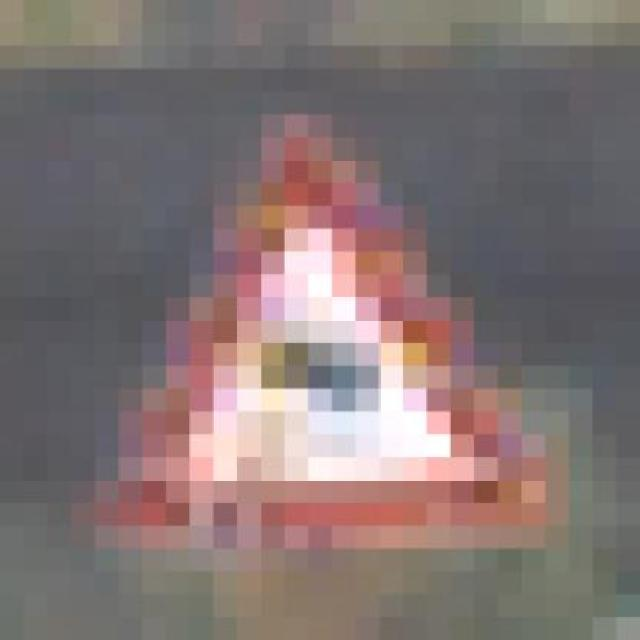Slippery Road Ahead: (72, 91, 546, 548)
